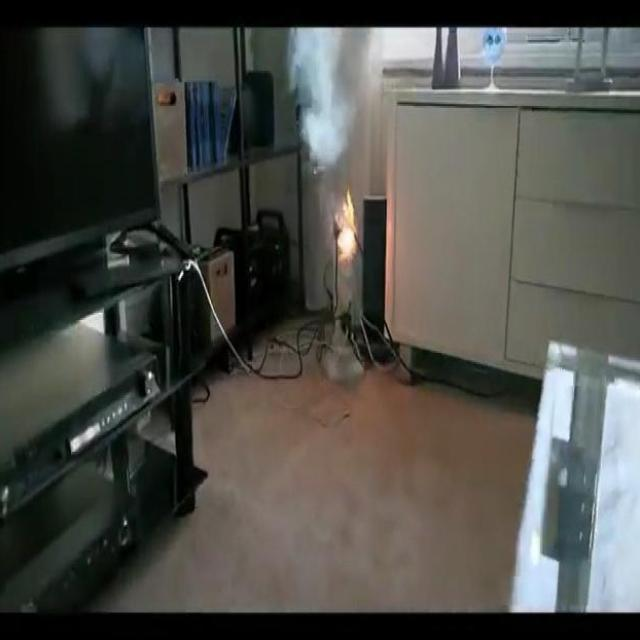fire: (290, 28, 362, 178)
smoke: (332, 190, 363, 265)
